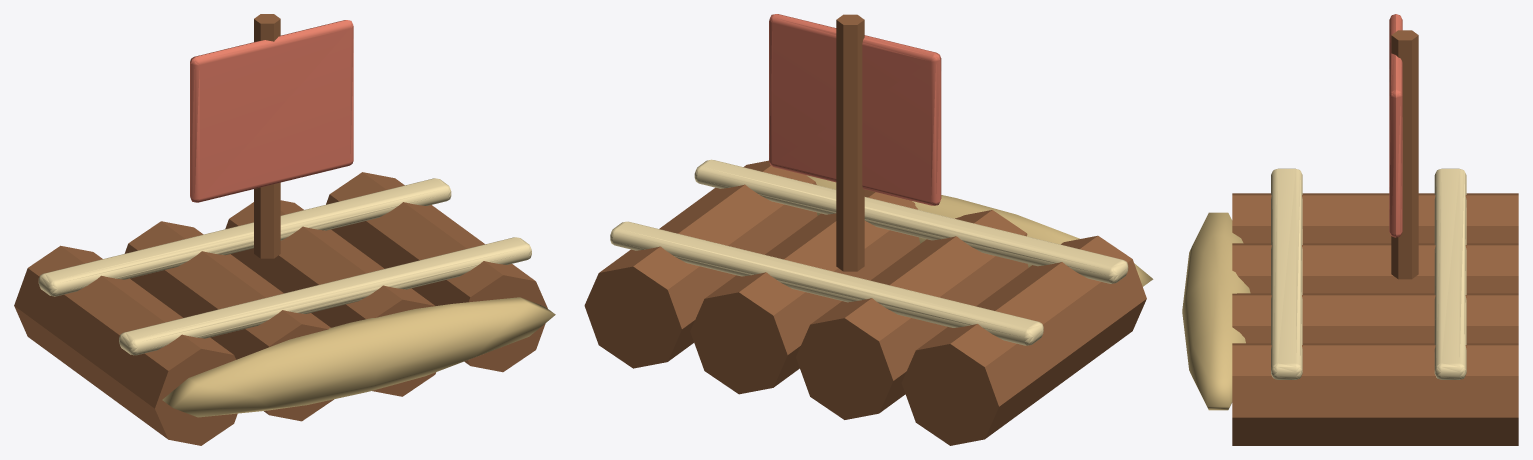
File: DW_Craft.fbx
The picture shows the model from 3 angles, left to right: view 1: azimuth 30°, elevation 25°; view 2: azimuth 150°, elevation 25°; view 3: azimuth 270°, elevation 25°; orthographic projection. The views are drawn at different scales.
Visible parts, largest first — view 1: DW_Craft; view 2: DW_Craft; view 3: DW_Craft.
Boxes of the visible parts, bbox=[...] form: DW_Craft: bbox=[14, 14, 555, 445]; DW_Craft: bbox=[584, 14, 1153, 445]; DW_Craft: bbox=[1182, 14, 1518, 445].
Bounding box in the file's own units: 1.04 × 0.81 × 0.74.
